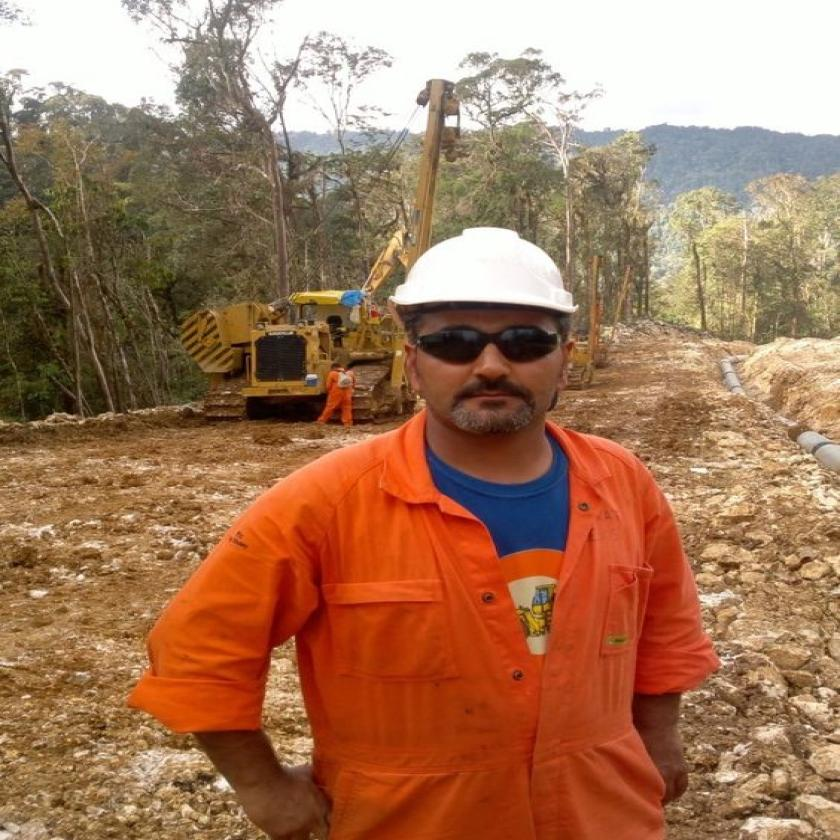Con_casco: (375, 214, 597, 460)
